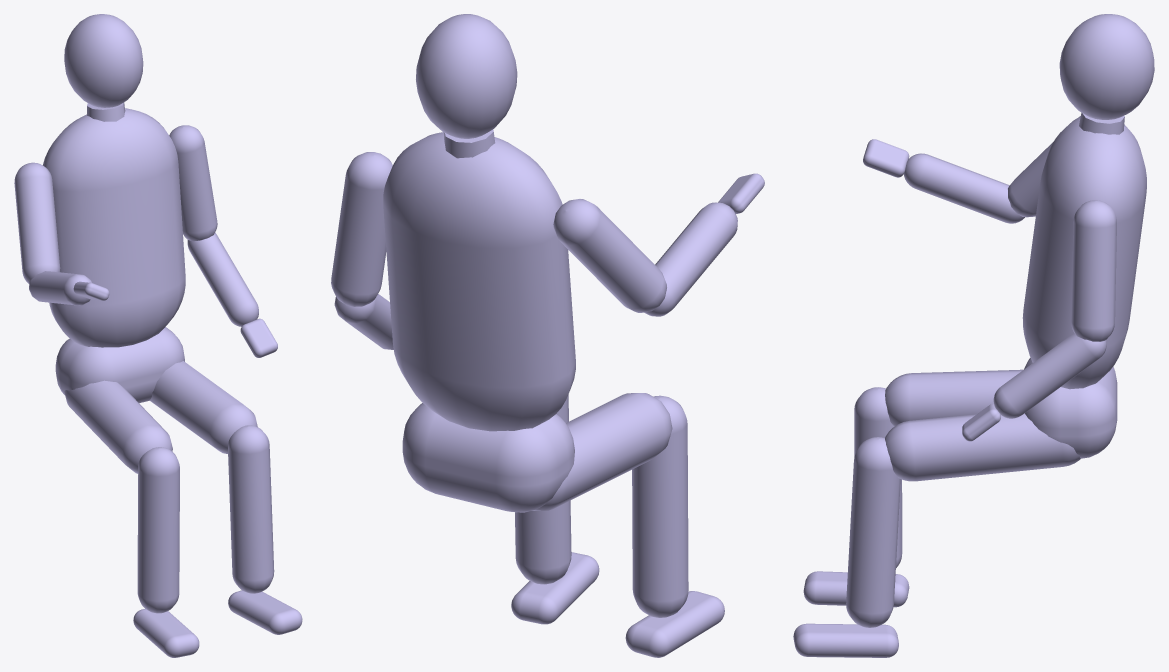
File: mannequin-sit.glb
3 views of the same model, side by side, from view 1: azimuth 30°, elevation 25°; view 2: azimuth 150°, elevation 25°; view 3: azimuth 270°, elevation 25° (orthographic). The views are drawn at different scales.
Visible parts, largest first — view 1: chest, shinL, shinR, headMesh, pelvis, thighR, thighL, upperArmR, upperArmL, foreArmL, footL, footR (+4 smaller); view 2: chest, pelvis, headMesh, shinR, thighR, upperArmL, upperArmR, foreArmR, shinL, footR, footL, foreArmL (+2 smaller); view 3: chest, thighL, shinL, headMesh, upperArmL, thighR, pelvis, foreArmL, foreArmR, footL, shinR, footR (+4 smaller).
Boxes of the visible parts, x1,y1,x2,y2 form: chest: (43, 108, 185, 347); shinL: (228, 425, 274, 593); shinR: (137, 447, 179, 613); headMesh: (64, 14, 143, 107); pelvis: (55, 327, 184, 403); thighR: (64, 380, 172, 473); thighL: (149, 361, 257, 453); upperArmR: (14, 162, 60, 283); upperArmL: (169, 125, 217, 241); foreArmL: (187, 232, 258, 326); footL: (228, 590, 302, 634); footR: (133, 609, 199, 657); chest: (383, 132, 575, 431); pelvis: (402, 403, 574, 512); headMesh: (416, 14, 517, 138); shinR: (632, 395, 688, 617); thighR: (532, 393, 672, 510); upperArmL: (331, 152, 392, 306); upperArmR: (553, 199, 666, 312); foreArmR: (644, 202, 737, 316); shinL: (515, 394, 571, 584); footR: (625, 591, 724, 657); footL: (511, 552, 599, 624); foreArmL: (334, 294, 393, 349); chest: (1022, 117, 1146, 389); thighL: (885, 413, 1080, 481); shinL: (846, 437, 900, 627); headMesh: (1059, 14, 1154, 119); upperArmL: (1071, 200, 1116, 341); thighR: (885, 369, 1023, 426); pelvis: (1024, 358, 1117, 458); foreArmL: (993, 333, 1106, 418); foreArmR: (903, 153, 1024, 223); footL: (793, 623, 898, 657); shinR: (854, 387, 902, 567); footR: (803, 571, 909, 607).
Bounding box in the file's own units: 0.708 × 1.54 × 0.827.
